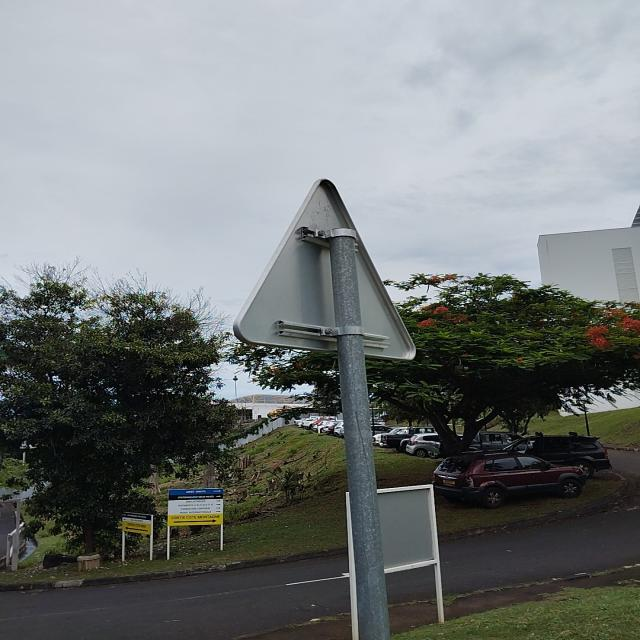Panneau: (240, 178, 419, 364)
